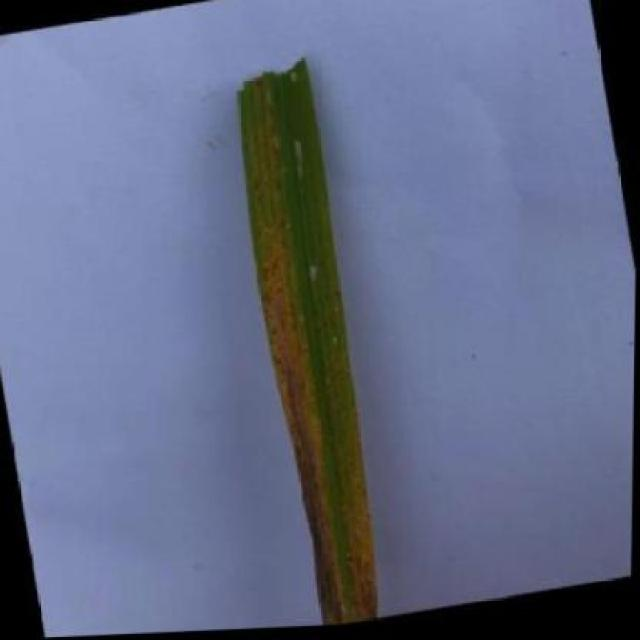Rice False Smut: (238, 62, 379, 628)
